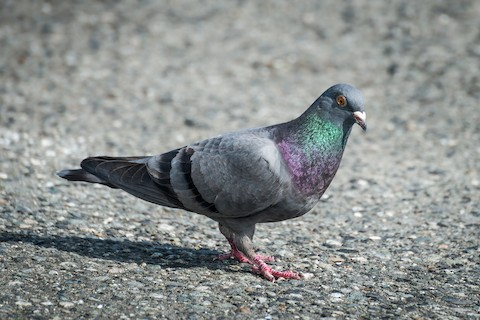pigeon: (51, 75, 373, 283)
